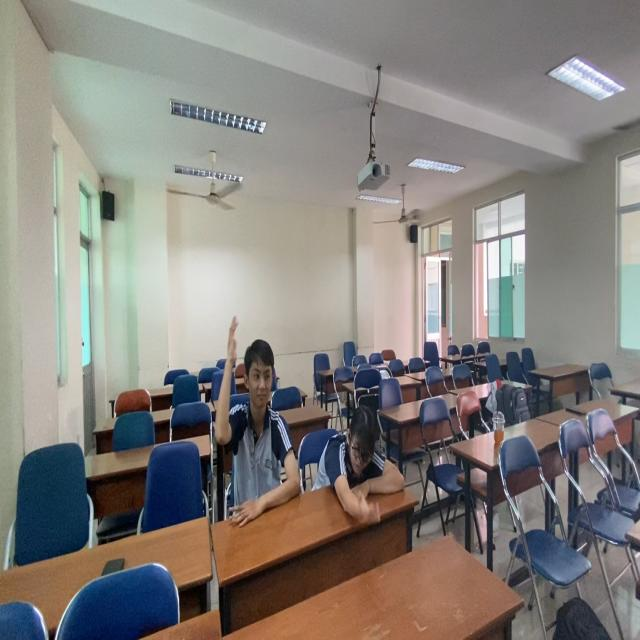raise_hand: (213, 308, 305, 525)
